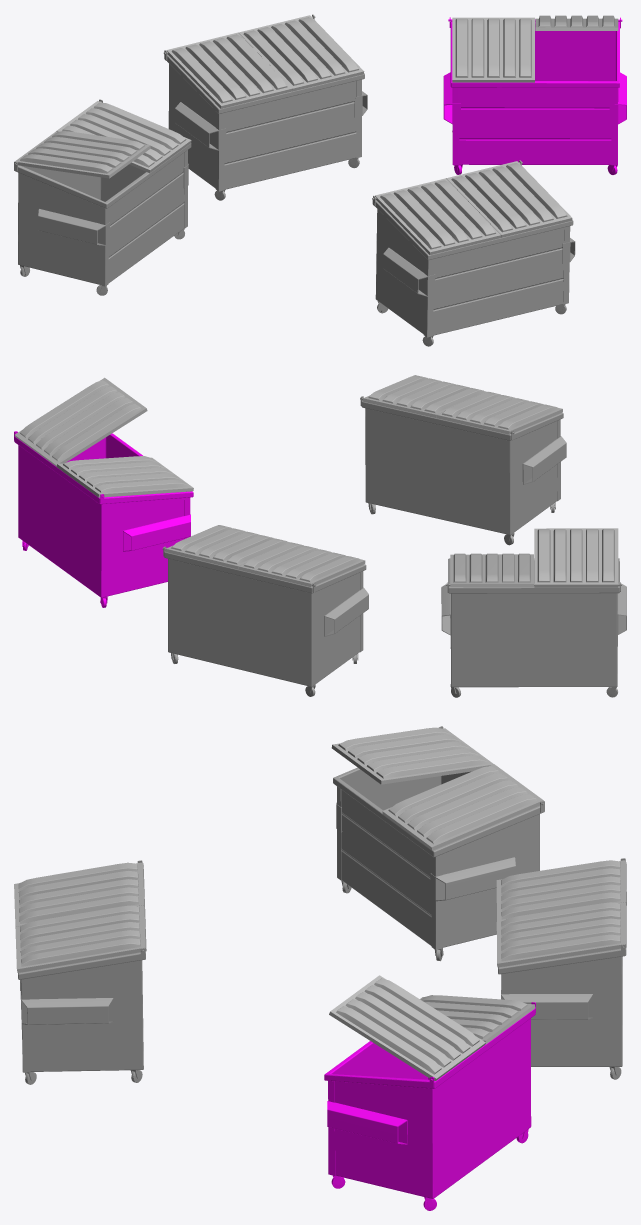
The model's file is Dumpster.fbx.
3 renders of one model, top to bottom at view 1: azimuth 30°, elevation 25°; view 2: azimuth 150°, elevation 25°; view 3: azimuth 270°, elevation 25°, orthographic. The views are drawn at different scales.
Visible parts, largest first — view 1: LidLeft (×4), Dumpster2, Dumpster3, Dumpster4, Dumpster1, LidRight (×4); view 2: Dumpster4, Dumpster1, Dumpster3, Dumpster2, LidLeft (×4), LidRight (×4); view 3: LidRight (×4), Dumpster2, Dumpster3, LidLeft (×4), Dumpster4, Dumpster1.
Boxes of the visible parts, x1,y1,x2,y2 form: LidLeft (×4): (15, 17, 534, 254); Dumpster2: (443, 17, 626, 174); Dumpster3: (14, 99, 191, 295); Dumpster4: (372, 160, 575, 346); Dumpster1: (163, 14, 367, 200); LidRight (×4): (56, 15, 618, 237); Dumpster4: (360, 396, 566, 545); Dumpster1: (162, 546, 368, 696); Dumpster3: (441, 558, 626, 697); Dumpster2: (14, 431, 193, 607); LidLeft (×4): (56, 391, 618, 587); LidRight (×4): (15, 375, 533, 587); LidRight (×4): (15, 764, 626, 1080); Dumpster2: (324, 1002, 535, 1210); Dumpster3: (333, 726, 544, 961); LidLeft (×4): (14, 727, 626, 1044); Dumpster4: (18, 860, 145, 1084); Dumpster1: (498, 858, 626, 1079).
Size of the model in its own units: 779 by 185 by 573.
